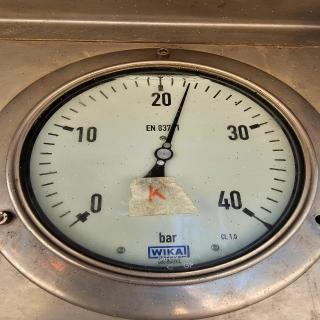gauge: (9, 58, 318, 283), (66, 194, 104, 230), (227, 194, 261, 224), (154, 146, 172, 162), (184, 81, 192, 91)
